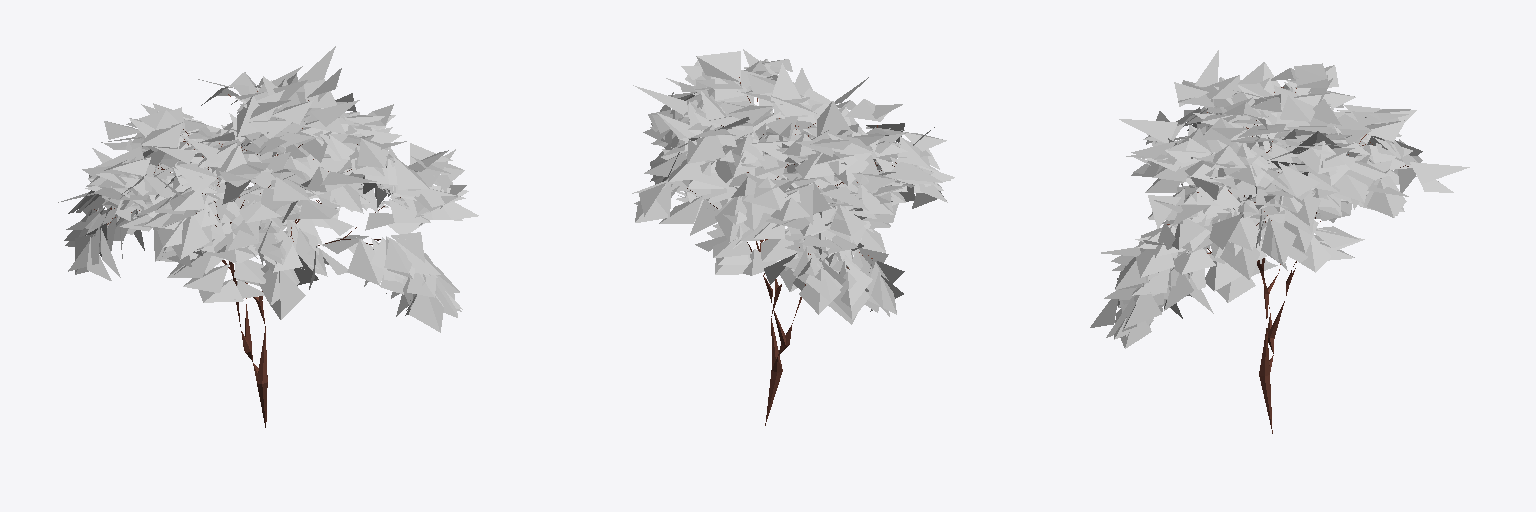
3 views of the same model, side by side, from view 1: azimuth 30°, elevation 25°; view 2: azimuth 150°, elevation 25°; view 3: azimuth 270°, elevation 25° (orthographic).
Parts seen in each view (by area): view 1: Tree; view 2: Tree; view 3: Tree.
Part boxes in pixels (x1,y1,x2,y2): Tree: (58,46,478,427); Tree: (632,49,954,425); Tree: (1090,50,1469,433).
Bounding box in the file's own units: 3.56 × 3.75 × 3.7.
2 materials, 1 textured.